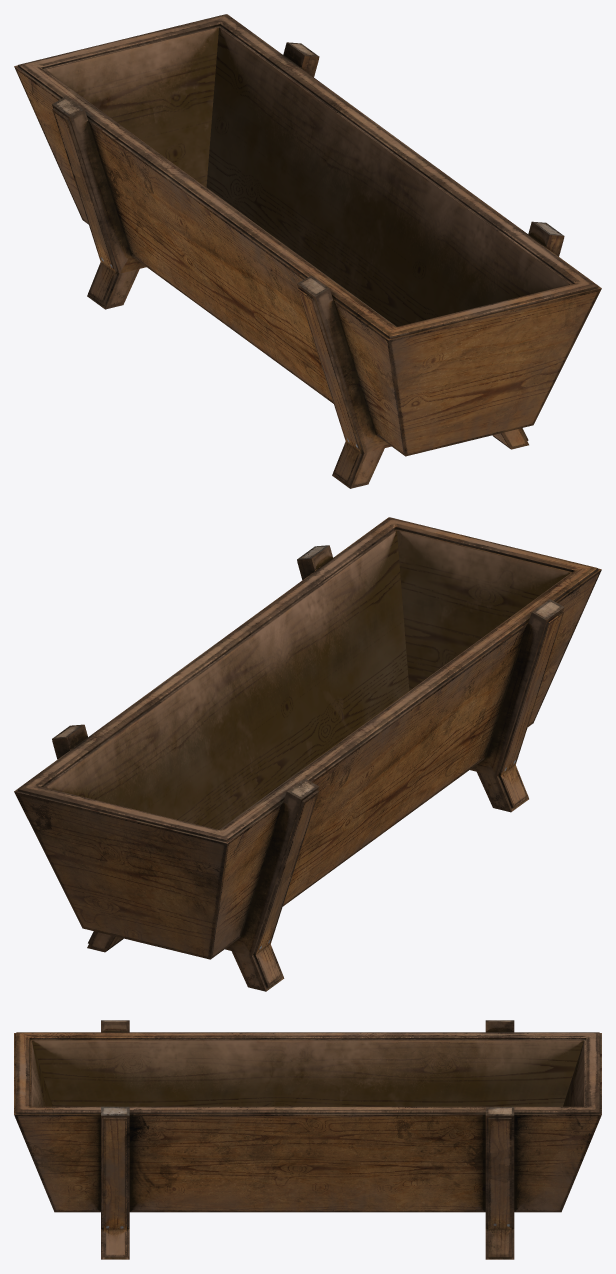
Rendered from quench.glb.
The picture shows the model from 3 angles, top to bottom: view 1: azimuth 30°, elevation 25°; view 2: azimuth 150°, elevation 25°; view 3: azimuth 270°, elevation 25°; orthographic projection. The views are drawn at different scales.
Parts seen in each view (by area): view 1: quench; view 2: quench; view 3: quench.
Part boxes in pixels (x1,y1,x2,y2): quench: (14, 14, 601, 488); quench: (14, 517, 601, 991); quench: (14, 1020, 601, 1259).
Size of the model in its own units: 0.3884 by 0.3023 by 1.
1 material, 1 textured.
